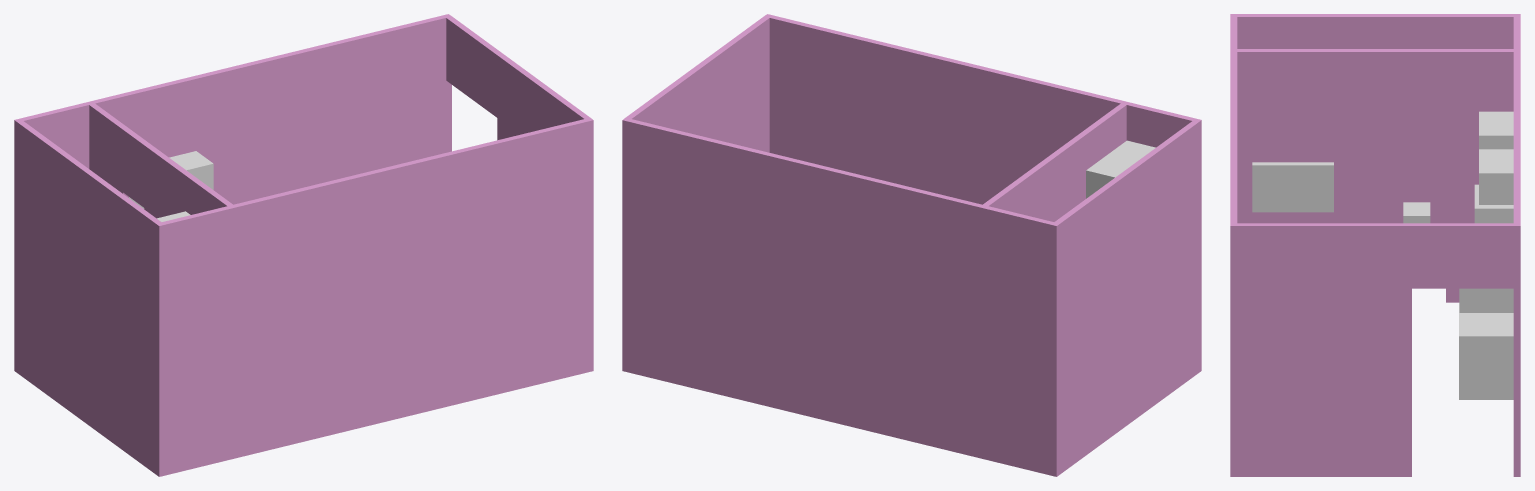
Rendered from AptoSoltero.fbx.
The picture shows the model from 3 angles, left to right: view 1: azimuth 30°, elevation 25°; view 2: azimuth 150°, elevation 25°; view 3: azimuth 270°, elevation 25°; orthographic projection.
Visible parts, largest first — view 1: Cube.023, Cube.021, Cube.020, Cube.022, Cube.025, Cube.019, Cube.014; view 2: Cube.021, Cube.023, Cube.020, Cube.022, Cube.019, Cube.025, Cube.009; view 3: Cube.022, Cube.019, Cube.020, Cube.025, Cube.001, Cube.010, Cube.021, Cube.023, Cube.014, Cube.003, Cube.016, Cube.015 (+1 smaller).
Part boxes in pixels (<box>): Cube.023: <box>159,119,593,476</box>; Cube.021: <box>14,14,451,370</box>; Cube.020: <box>14,120,164,476</box>; Cube.022: <box>446,16,592,140</box>; Cube.025: <box>88,102,152,209</box>; Cube.019: <box>144,146,234,218</box>; Cube.014: <box>169,151,213,189</box>; Cube.021: <box>622,118,1059,476</box>; Cube.023: <box>766,14,1201,370</box>; Cube.020: <box>1054,119,1201,476</box>; Cube.022: <box>624,15,771,152</box>; Cube.019: <box>1040,102,1128,221</box>; Cube.025: <box>982,162,1046,219</box>; Cube.009: <box>1086,140,1155,198</box>; Cube.022: <box>1233,223,1517,476</box>; Cube.019: <box>1233,49,1403,223</box>; Cube.020: <box>1231,14,1518,223</box>; Cube.025: <box>1398,49,1516,302</box>; Cube.001: <box>1459,313,1513,399</box>; Cube.010: <box>1252,162,1333,212</box>; Cube.021: <box>1513,14,1520,476</box>; Cube.023: <box>1230,14,1237,476</box>; Cube.014: <box>1479,149,1513,204</box>; Cube.003: <box>1459,288,1513,312</box>; Cube.016: <box>1479,111,1513,149</box>; Cube.015: <box>1474,184,1513,223</box>.
Size of what is drawn, in the model's own units: 400 by 220 by 231.
